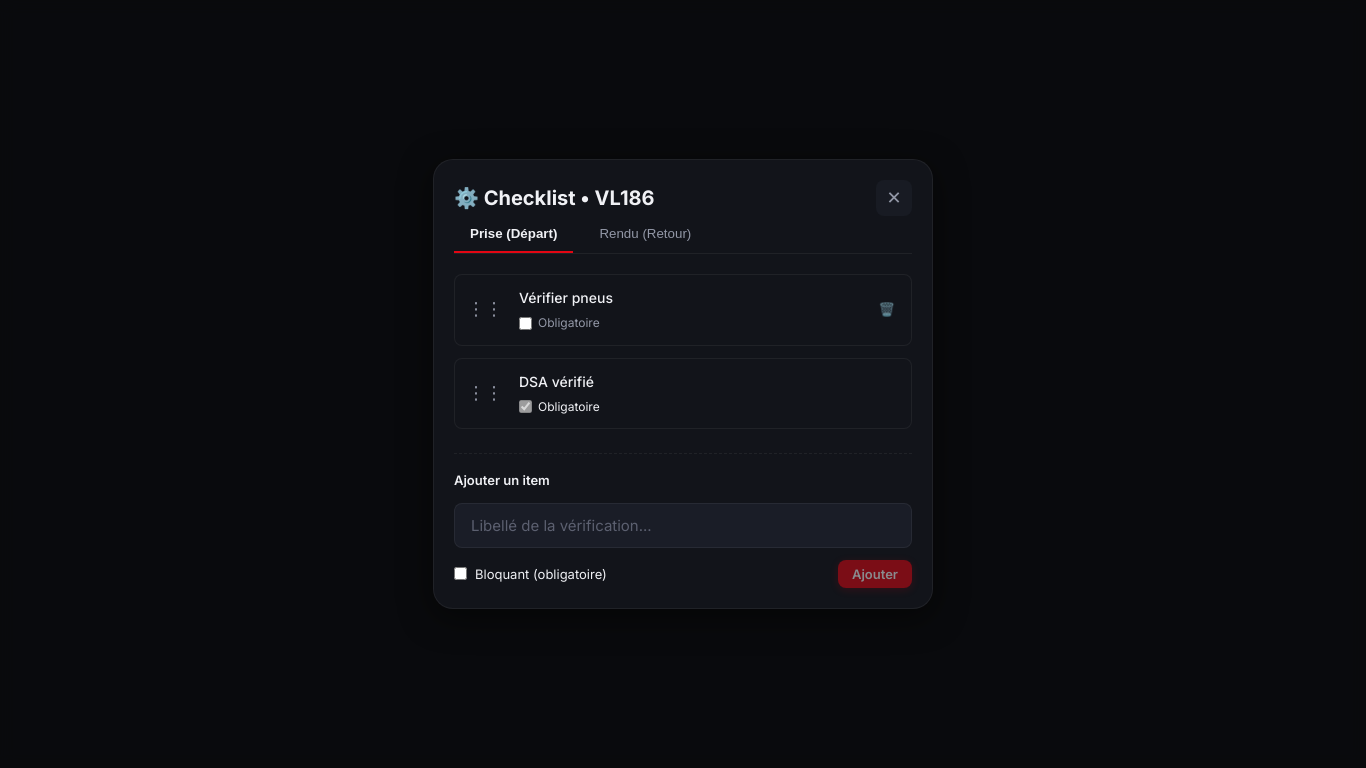
Test: ChecklistManager › supprime un item après confirmation
This screenshot has width=1366, height=768.
Expected: the text "Vérifier pneus" is shown, [519, 289, 613, 306]
Click the button titled "Supprimer l'item".
click(887, 310)  # box [874, 298, 899, 321]
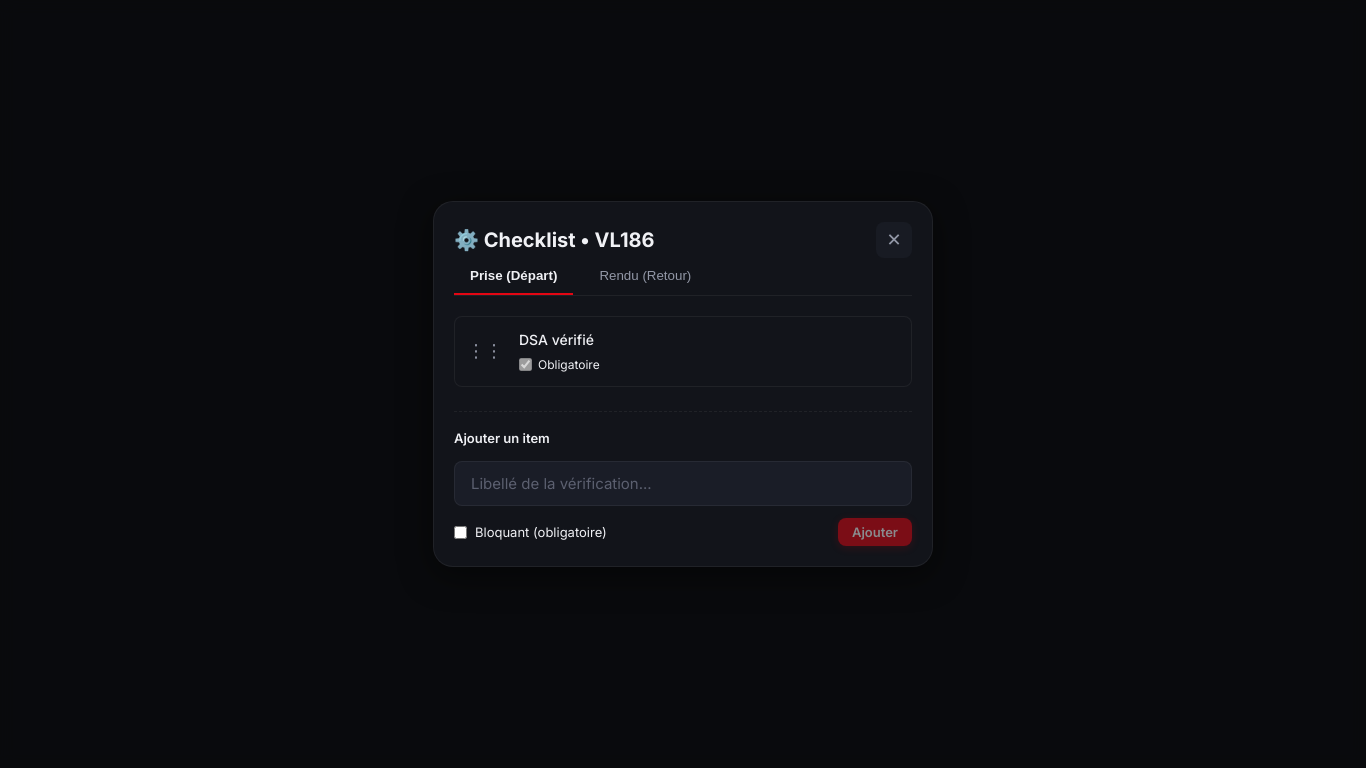
Expected: the text "Vérifier pneus" is gone
